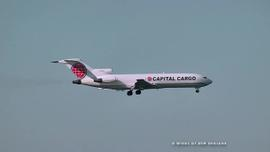aircraft: (51, 56, 214, 97)
